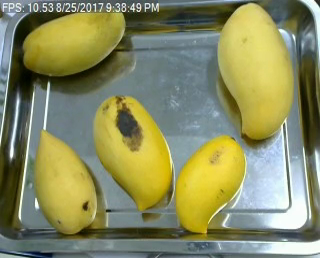Mango: (85, 88, 178, 210), (218, 3, 291, 145), (21, 3, 132, 88), (28, 128, 105, 236), (167, 136, 248, 233)
